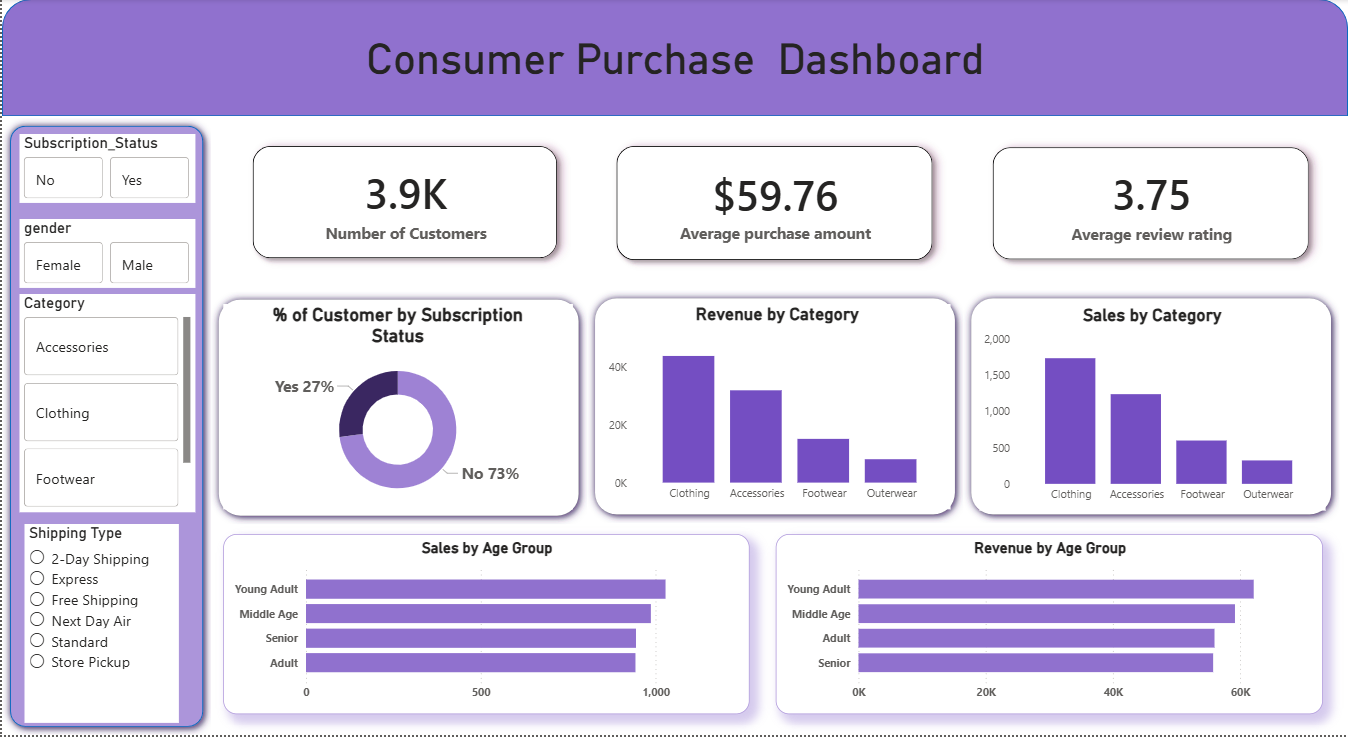

This screenshot's page, from the dashboard's own definition file:
{"tool":"powerbi","page":{"name":"Page 1","canvas":[1500,820],"ordinal":0},"visuals":[{"type":"cardVisual","fields":{"Data":["customer.Average purchase amount"]},"box":[652,130.4,418.9,193.6],"z":0},{"type":"cardVisual","fields":{"Data":["customer.Number of Customers"]},"box":[247,130.4,405,191.7],"z":1000},{"type":"cardVisual","fields":{"Data":["customer.Average review rating"]},"box":[1070.9,132.4,418.9,191.7],"z":2000},{"type":"shape","box":[0,0,1499.6,130.4],"z":3000},{"type":"textbox","box":[110.6,33.6,1280.3,150.2],"z":4000},{"type":"shape","box":[233.1,326,418.9,258.8],"z":5000},{"type":"donutChart","title":"% of Customer by Subscription Status","fields":{"Category":["customer.subscription_status"],"Y":["Count(customer.customer_id)"]},"box":[247,339.8,389.2,229.2],"z":6000},{"type":"shape","box":[652,324,418.9,258.8],"z":7000},{"type":"shape","box":[1070.9,324,418.9,258.8],"z":8000},{"type":"clusteredColumnChart","title":"Revenue by Category","fields":{"Category":["customer.category"],"Y":["Sum(customer.previous_purchases)"]},"box":[671.8,339.8,385.3,229.2],"z":9000},{"type":"clusteredColumnChart","title":"Sales by Category","fields":{"Category":["customer.category"],"Y":["CountNonNull(customer.customer_id)"]},"box":[1088.7,341.8,385.3,229.2],"z":10000},{"type":"shape","box":[0,132.4,233.1,687.6],"z":11000},{"type":"advancedSlicerVisual","fields":{"Values":["customer.subscription_status"]},"box":[19.8,150.2,195.6,77.1],"z":12000},{"type":"advancedSlicerVisual","fields":{"Values":["customer.gender"]},"box":[19.8,245,195.6,77.1],"z":13000},{"type":"advancedSlicerVisual","fields":{"Values":["customer.category"]},"box":[19.8,328,195.6,243],"z":14000},{"type":"listSlicer","fields":{"Values":["customer.shipping_type"]},"box":[25.7,584.8,171.9,221.3],"z":15000},{"type":"clusteredBarChart","title":"Revenue by Age Group","fields":{"Y":["Sum(customer.purchase_amount)"],"Category":["customer.age_group"]},"box":[862.1,596.1,610,200.5],"z":16000},{"type":"clusteredBarChart","title":"Sales by Age Group","fields":{"Category":["customer.age_group"],"Y":["CountNonNull(customer.customer_id)"]},"box":[246.5,596.1,586.3,200.5],"z":18000}]}

Visuals, with their boxes in screenshot pixels (x1, y1, x2, y2), scaled from the page's 1500x820 canvas onto the 1348x737 screenshot:
cardVisual - customer.Average purchase amount: locate(586, 117, 962, 291)
cardVisual - customer.Number of Customers: locate(222, 117, 586, 289)
cardVisual - customer.Average review rating: locate(962, 119, 1339, 291)
shape: locate(0, 0, 1347, 117)
textbox: locate(99, 30, 1250, 165)
shape: locate(209, 293, 586, 526)
"% of Customer by Subscription Status" donutChart: locate(222, 305, 572, 511)
shape: locate(586, 291, 962, 524)
shape: locate(962, 291, 1339, 524)
"Revenue by Category" clusteredColumnChart: locate(604, 305, 950, 511)
"Sales by Category" clusteredColumnChart: locate(978, 307, 1325, 513)
shape: locate(0, 119, 209, 736)
advancedSlicerVisual - customer.subscription_status: locate(18, 135, 194, 204)
advancedSlicerVisual - customer.gender: locate(18, 220, 194, 289)
advancedSlicerVisual - customer.category: locate(18, 295, 194, 513)
listSlicer - customer.shipping_type: locate(23, 526, 178, 725)
"Revenue by Age Group" clusteredBarChart: locate(775, 536, 1323, 716)
"Sales by Age Group" clusteredBarChart: locate(222, 536, 748, 716)
